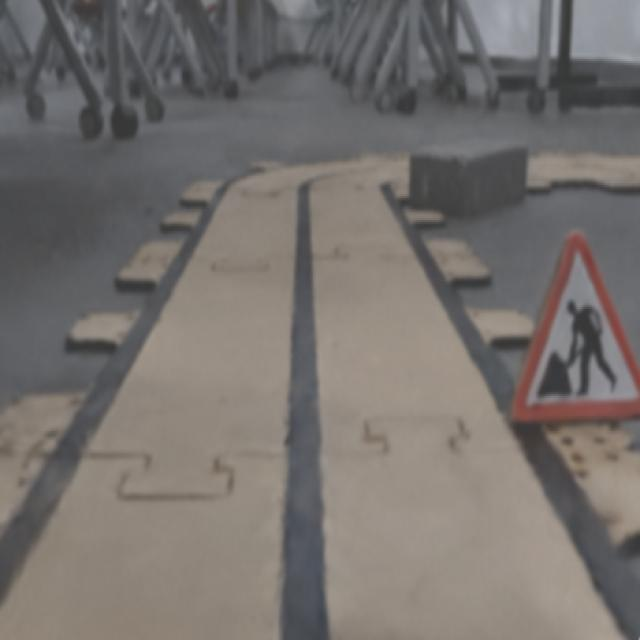WORKERS: (511, 233, 639, 422)
